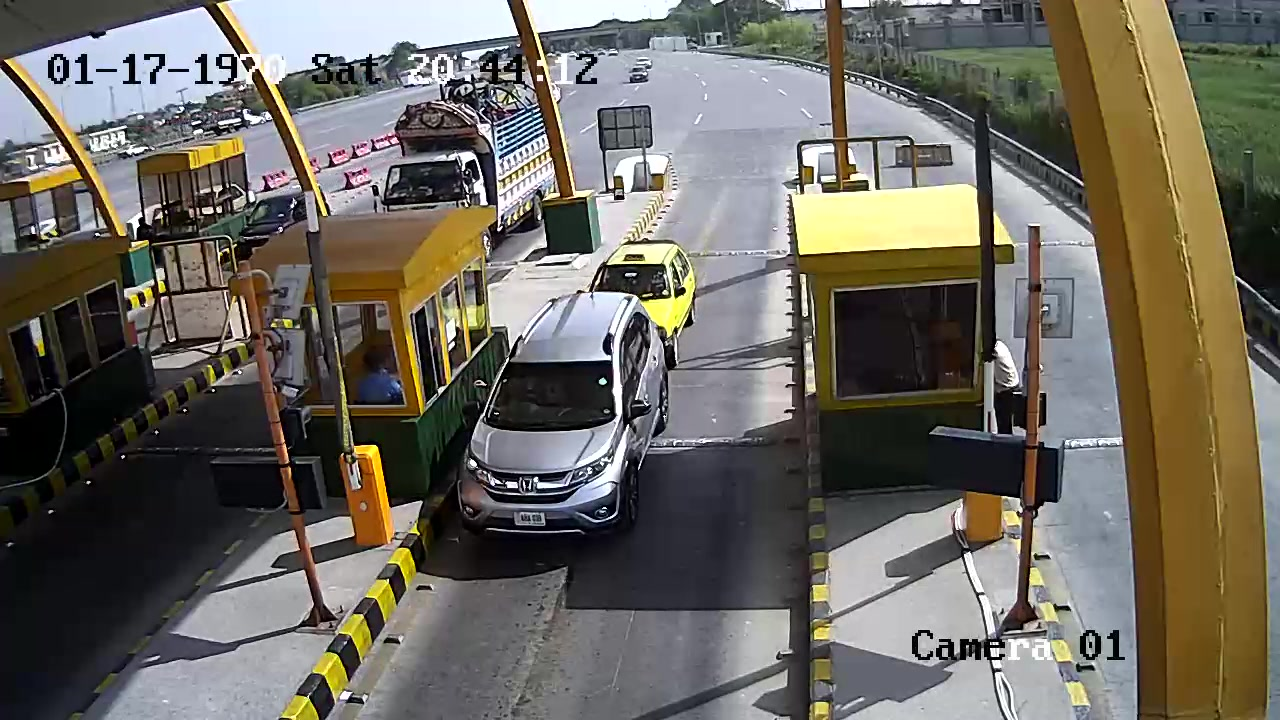F1: (451, 289, 673, 538)
